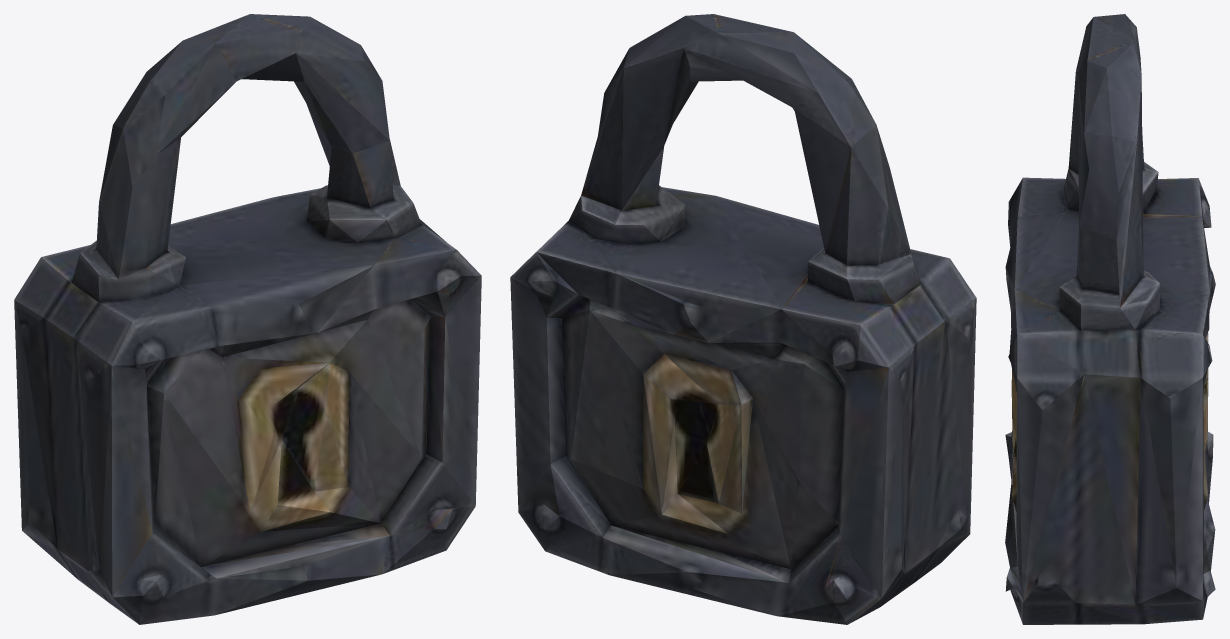
The model's file is cadeado.glb.
3 views of the same model, side by side, from view 1: azimuth 30°, elevation 25°; view 2: azimuth 150°, elevation 25°; view 3: azimuth 270°, elevation 25° (orthographic). The views are drawn at different scales.
Parts seen in each view (by area): view 1: Mesh_0; view 2: Mesh_0; view 3: Mesh_0.
Part boxes in pixels (x1=…): Mesh_0: x1=14, y1=14, x2=481, y2=624; Mesh_0: x1=510, y1=14, x2=976, y2=624; Mesh_0: x1=1005, y1=14, x2=1215, y2=624.
Bounding box in the file's own units: 0.1364 × 0.18 × 0.066.
1 material, 1 textured.
